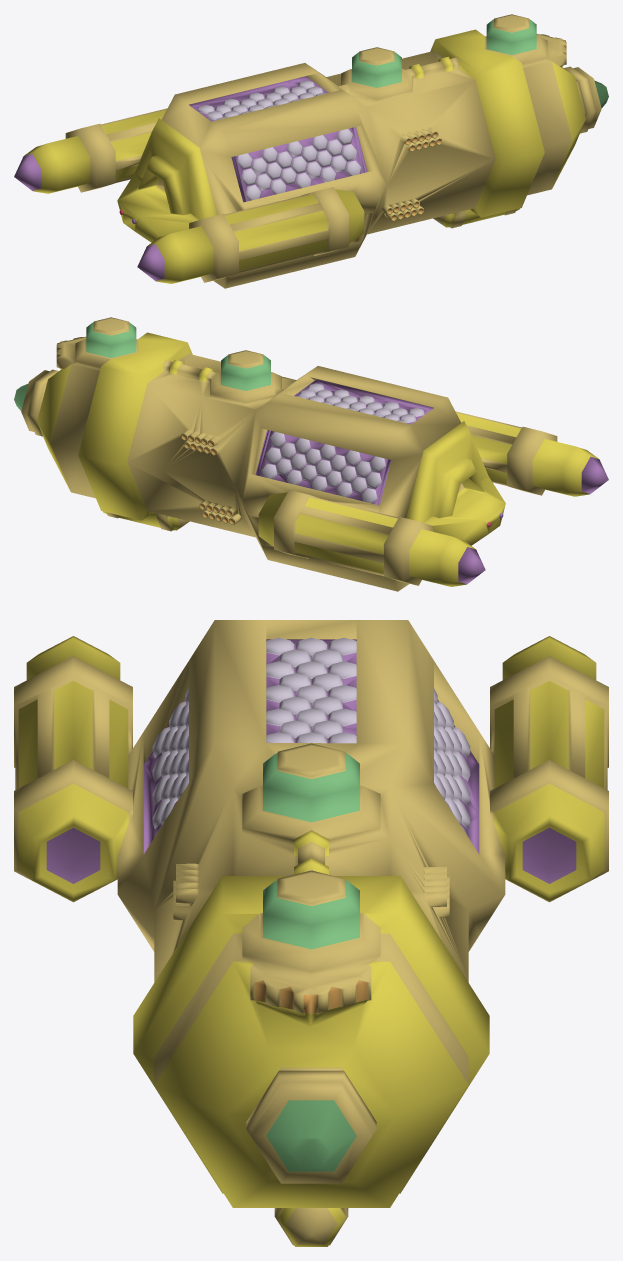
Rendered from vra-point.glb.
The picture shows the model from 3 angles, top to bottom: view 1: azimuth 30°, elevation 25°; view 2: azimuth 150°, elevation 25°; view 3: azimuth 270°, elevation 25°; orthographic projection. The views are drawn at different scales.
Parts seen in each view (by area): view 1: Point current hull - authored COLOR_0 regions; view 2: Point current hull - authored COLOR_0 regions; view 3: Point current hull - authored COLOR_0 regions.
Boxes of the visible parts, box(x1,y1,x2,y2) form: Point current hull - authored COLOR_0 regions: box(14, 14, 608, 288); Point current hull - authored COLOR_0 regions: box(14, 317, 608, 591); Point current hull - authored COLOR_0 regions: box(14, 620, 608, 1246).
Size of the model in its own units: 5.3 by 1.79 by 2.67.
